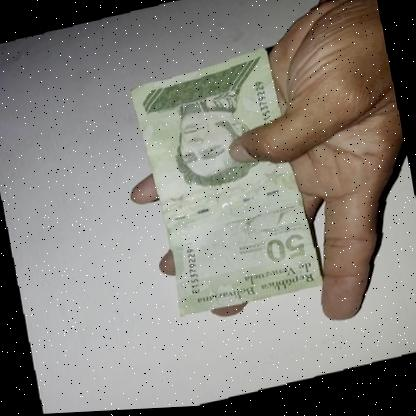fifty-front-vef: (126, 42, 326, 321)
